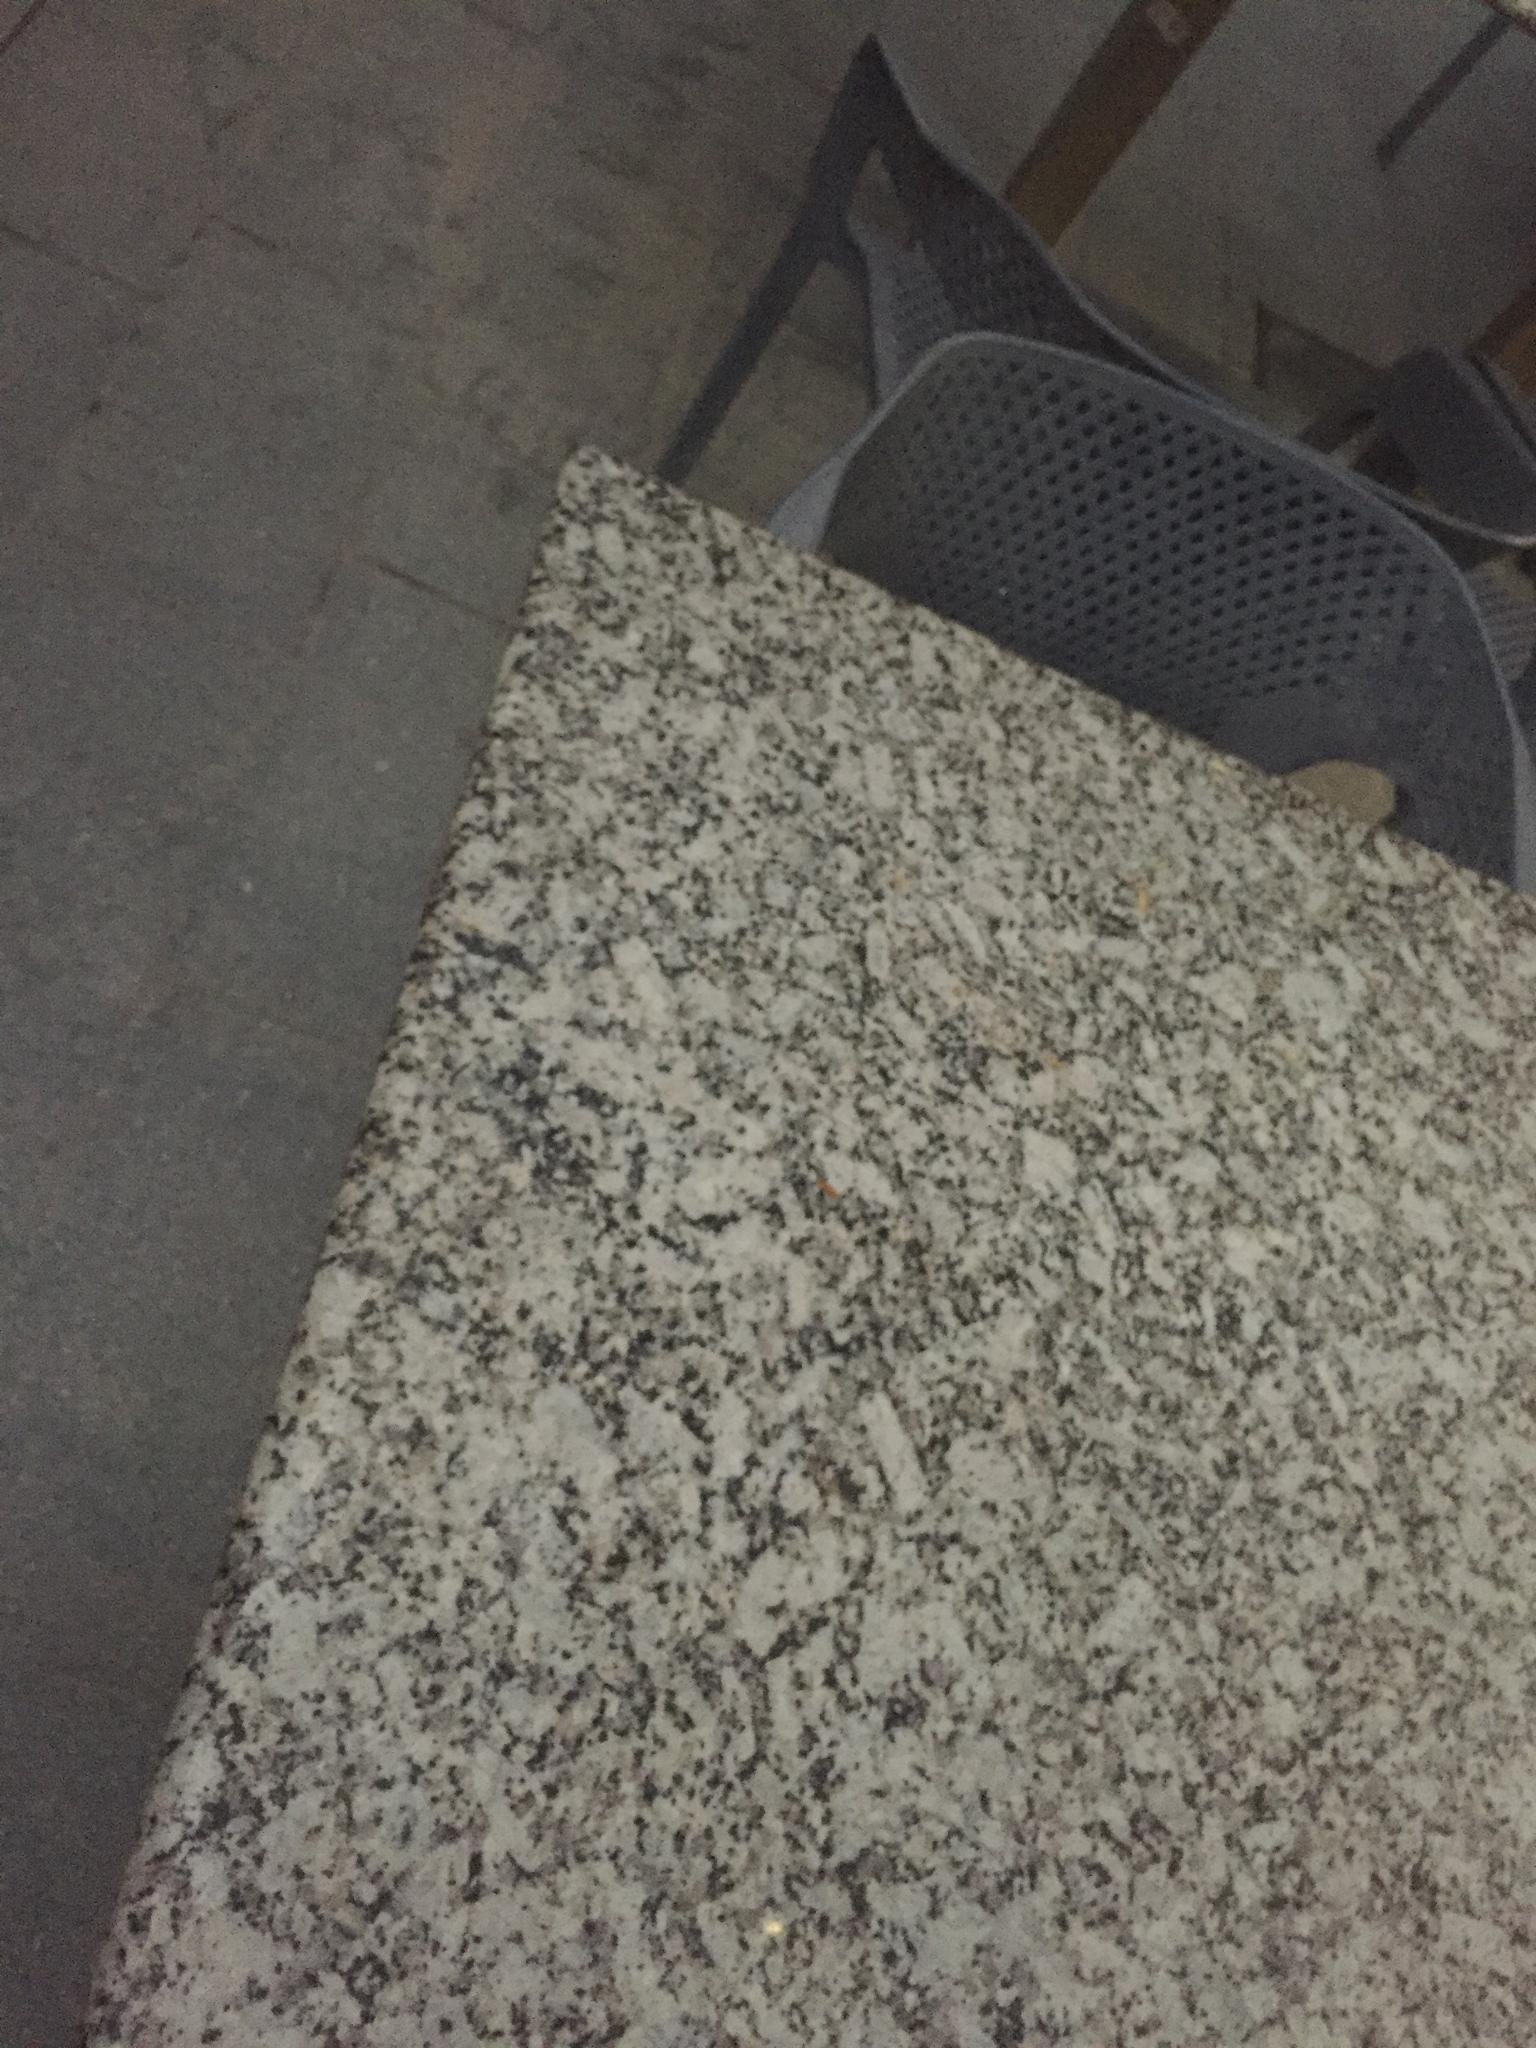chair: (710, 0, 1536, 590), (765, 327, 1533, 893)
